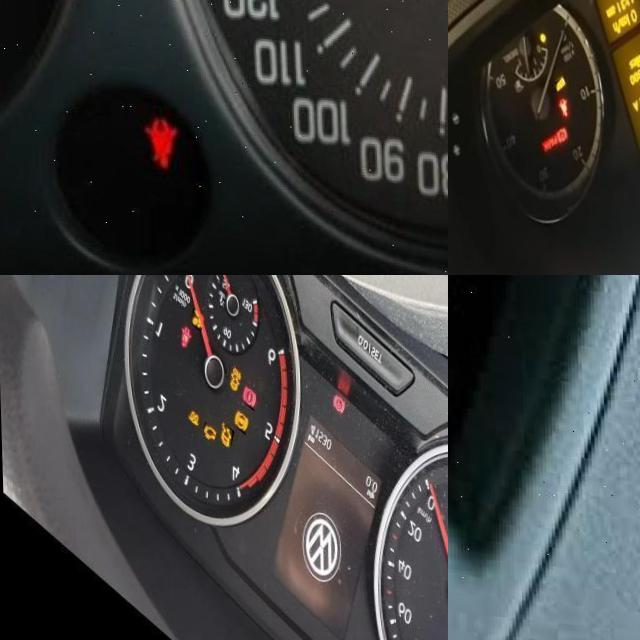Seat Belt: (144, 105, 176, 168)
